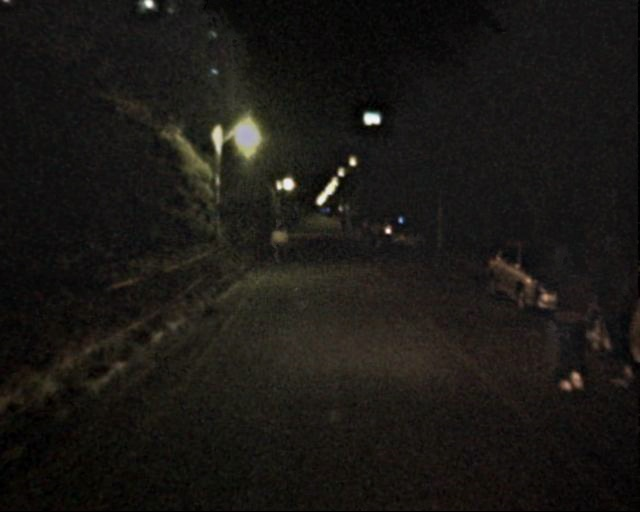person: (531, 245, 604, 398), (578, 240, 640, 393), (270, 220, 290, 268), (369, 215, 384, 253), (341, 219, 362, 241)
